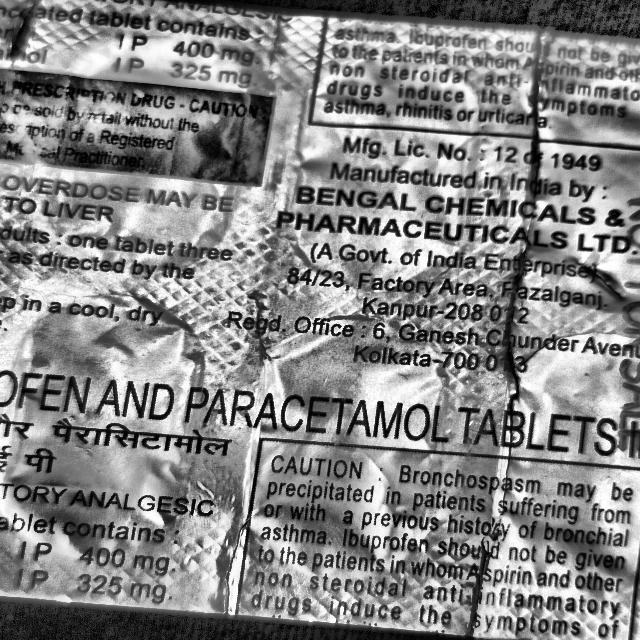IBUPROFEN AND PARACETAMOL TABLETS: (0, 342, 640, 473)
